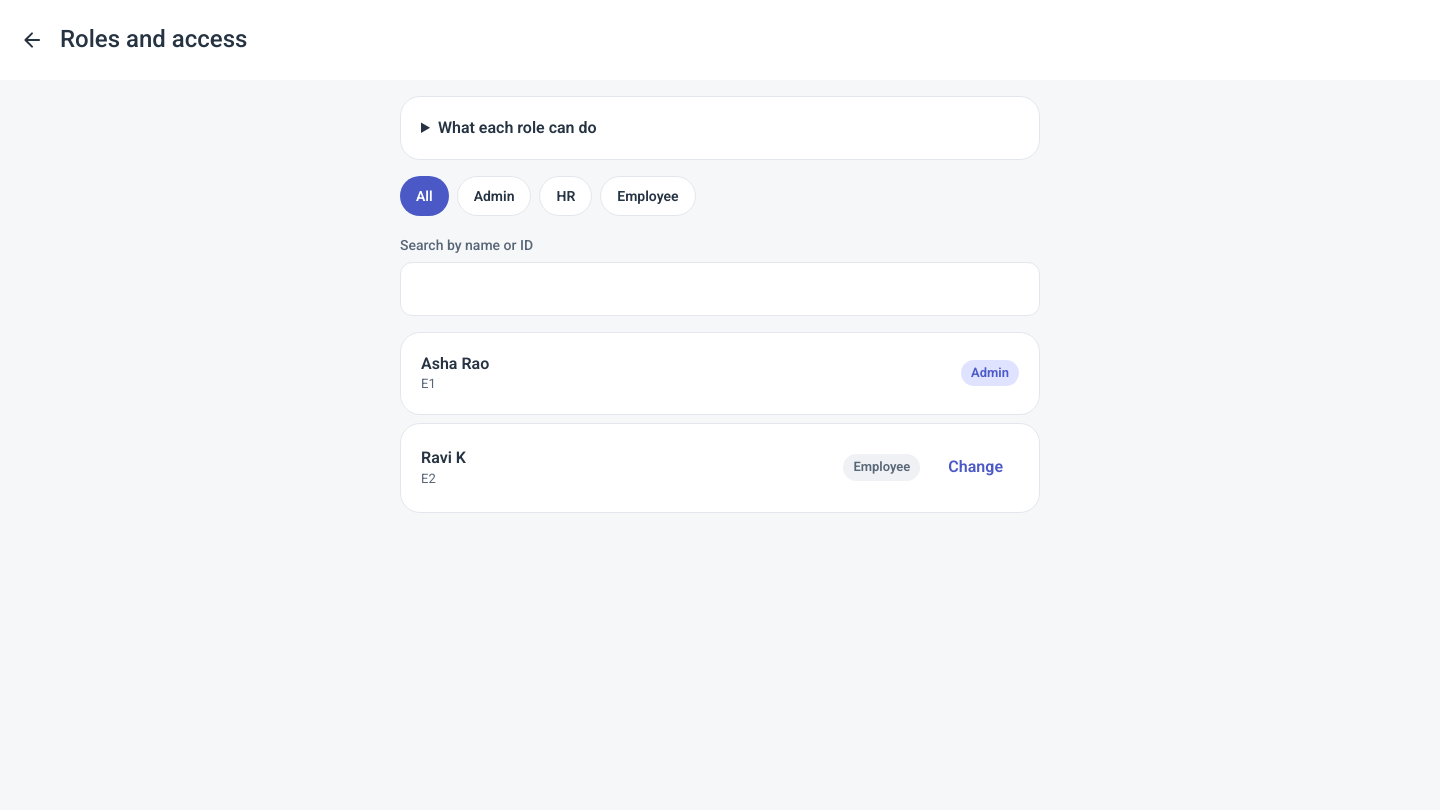
Scenario: Roles and step-up password › elevating to Admin asks for the password once, then retries
Expected: the text "Ravi K" is shown, [421,448,466,467]
Click the button "Change": [976, 468] box [932,444,1019,492]
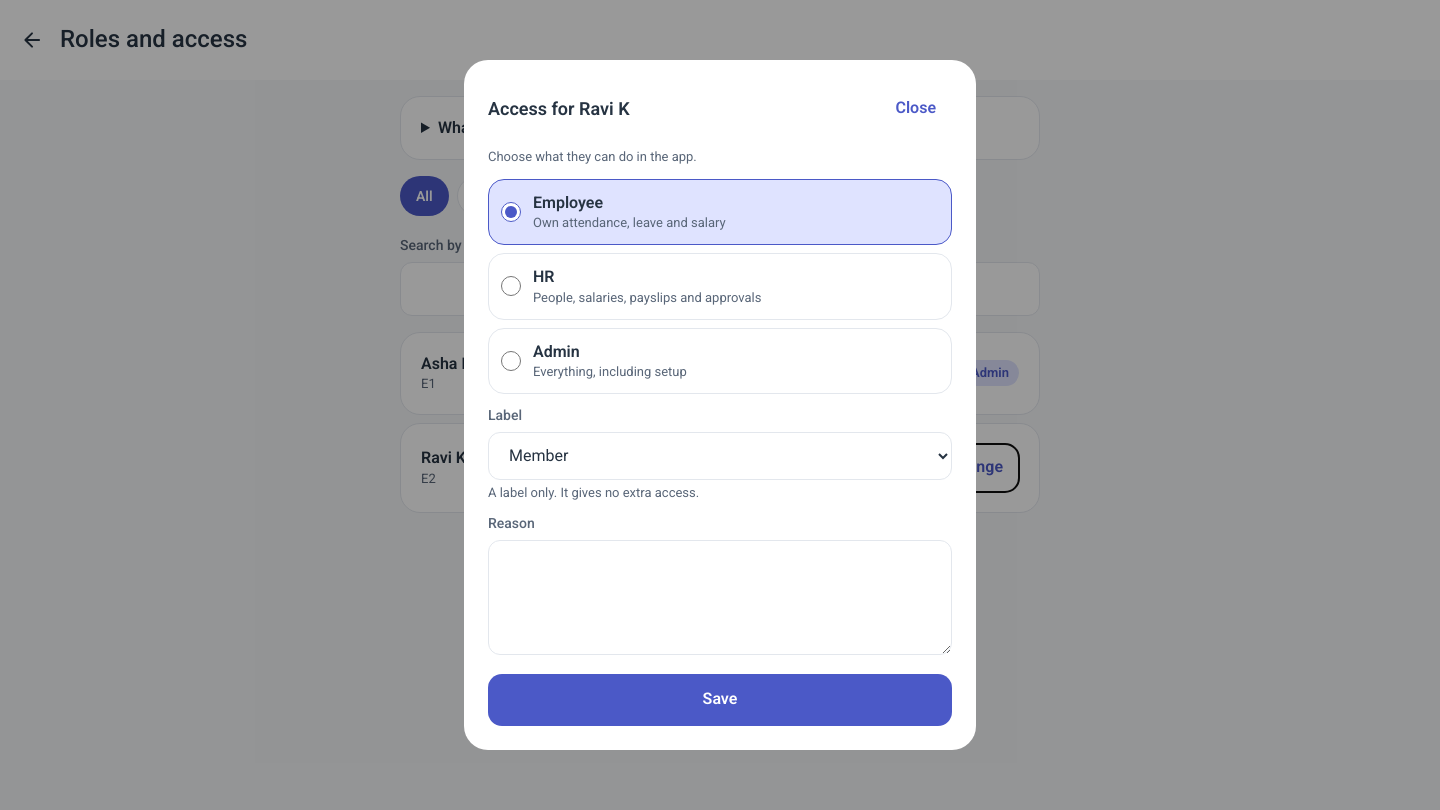
Click the radio button labelled "Admin Everything, including setup": [511, 361] box [501,351,521,371]
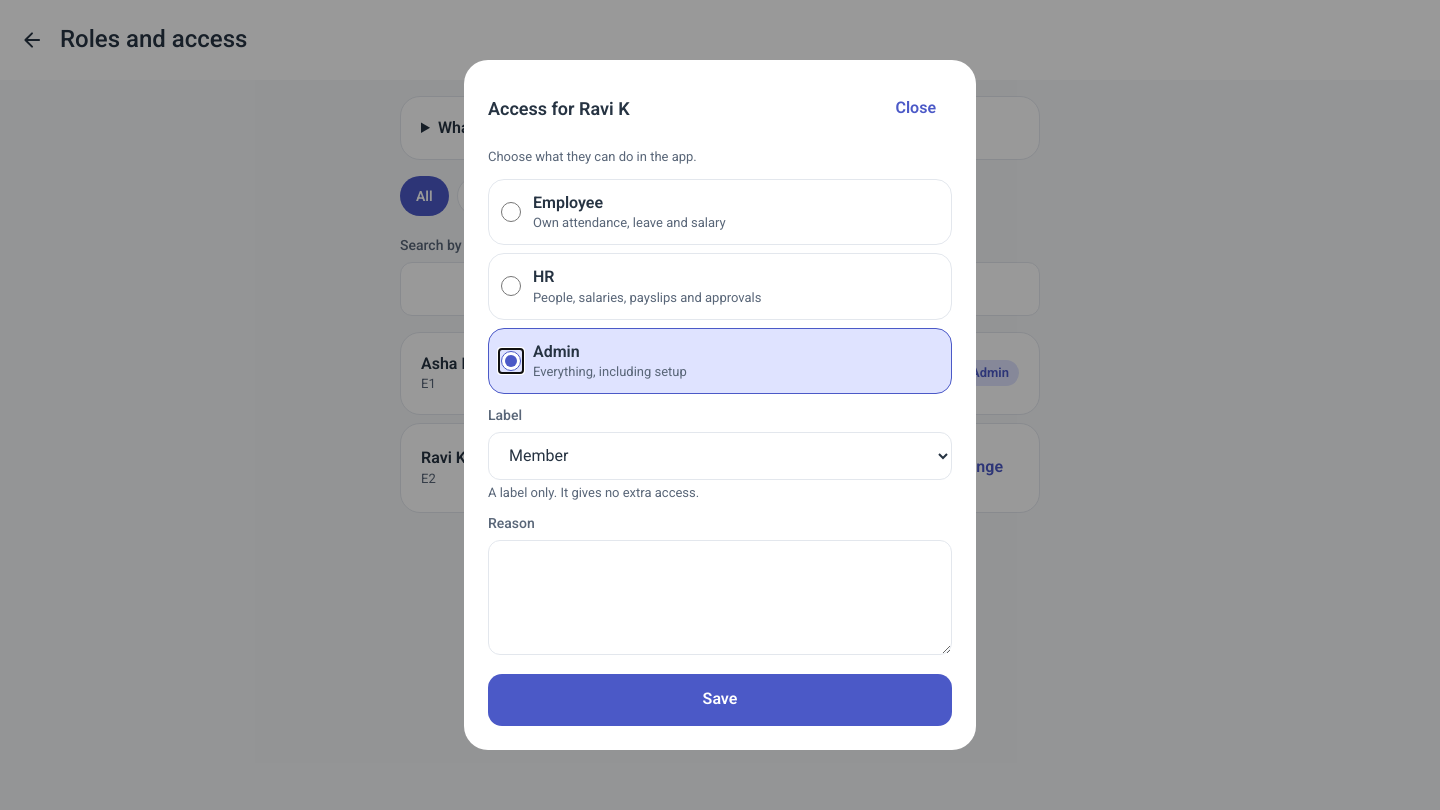
In the text box labelled "Reason": [720, 598] box [488,540,952,655], type "New office lead"
Click the button "Save": [720, 700] box [488,674,952,726]
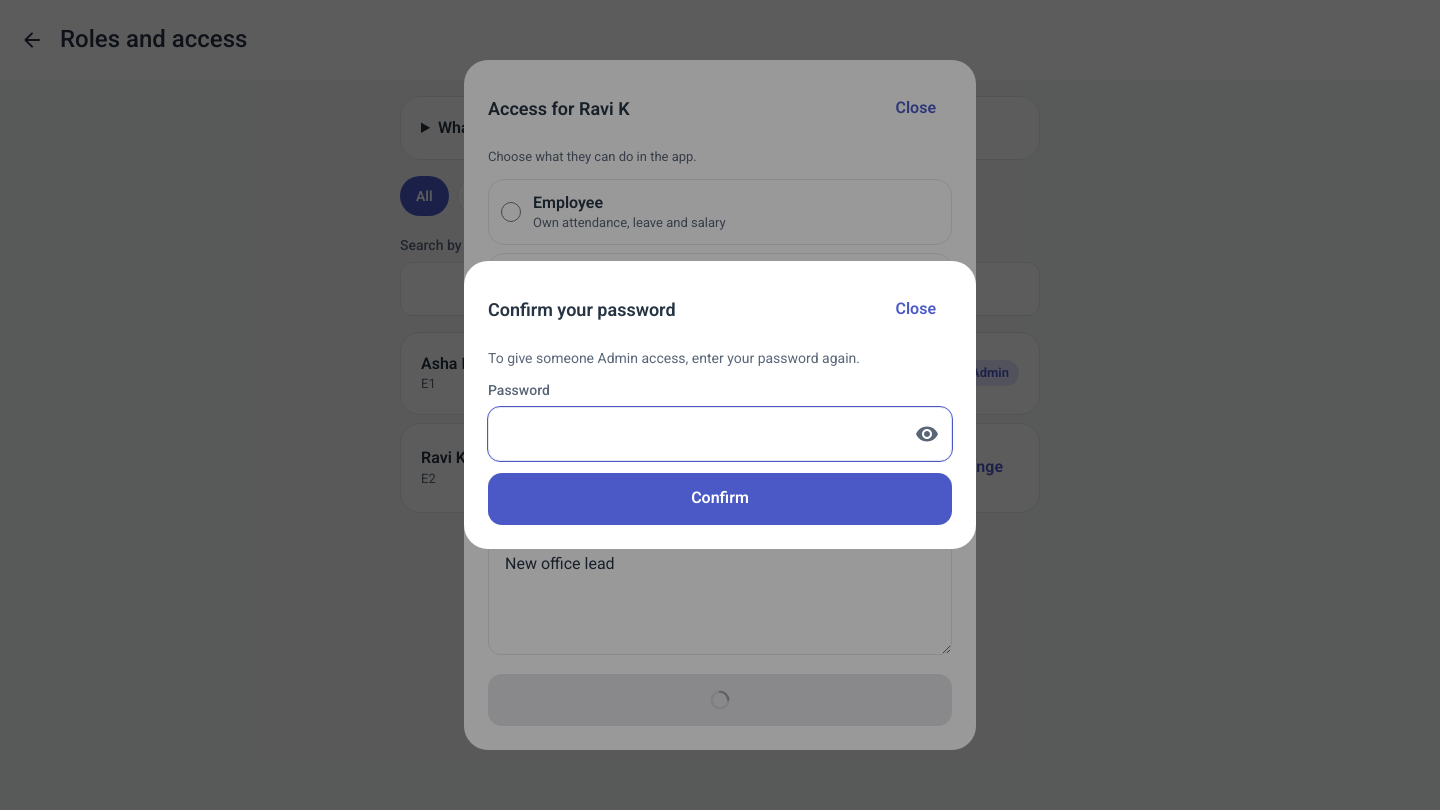
Result: the text "To give someone Admin access, enter your password again." is shown at [488,350,860,366]
In the password field labelled "Password": [696, 434] box [489,408,903,460], type "wrong"
Click the button "Confirm": [720, 499] box [488,473,952,525]
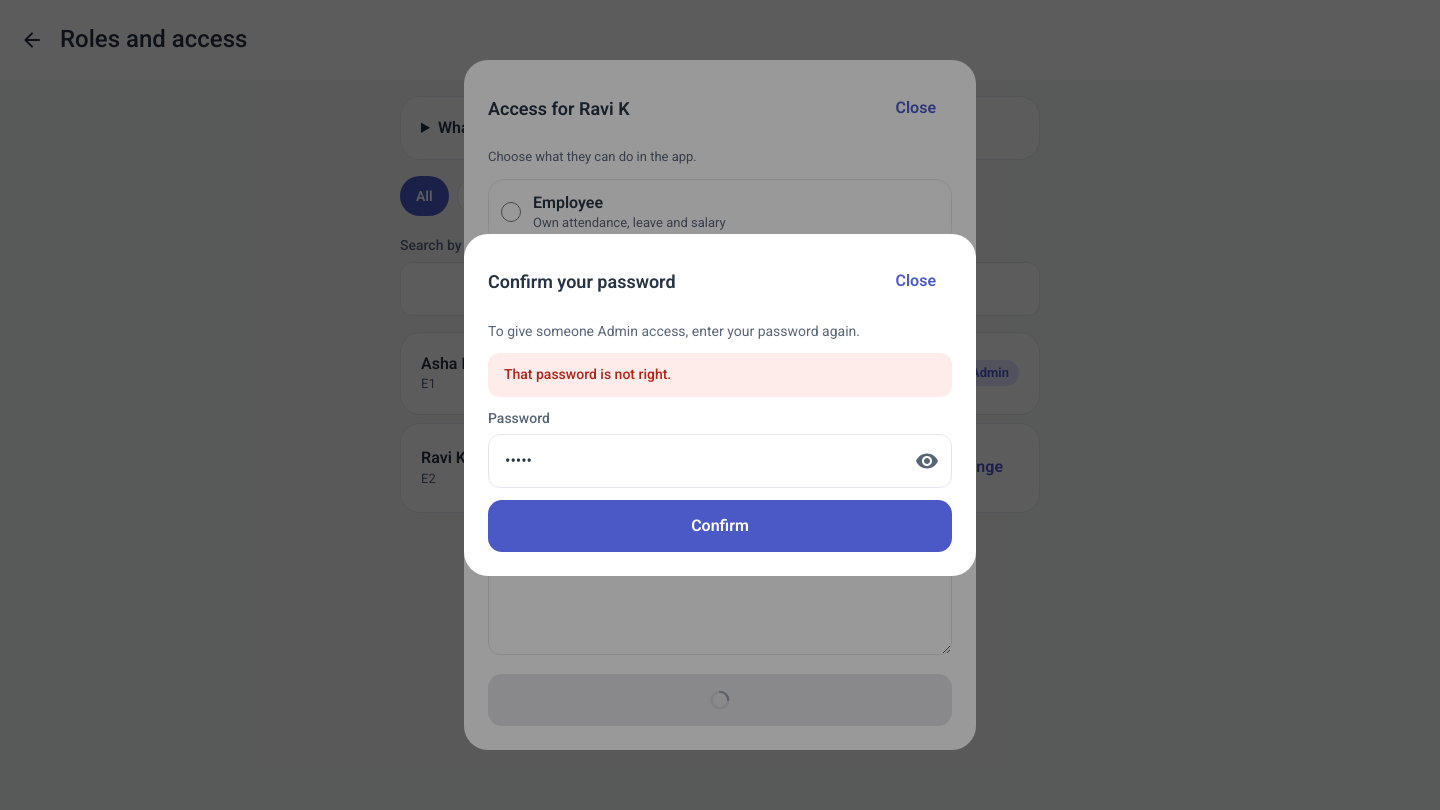
Result: the text "That password is not right." is shown at [488,353,952,397]
In the password field labelled "Password": [696, 461] box [489,435,903,487], type "right-pass"
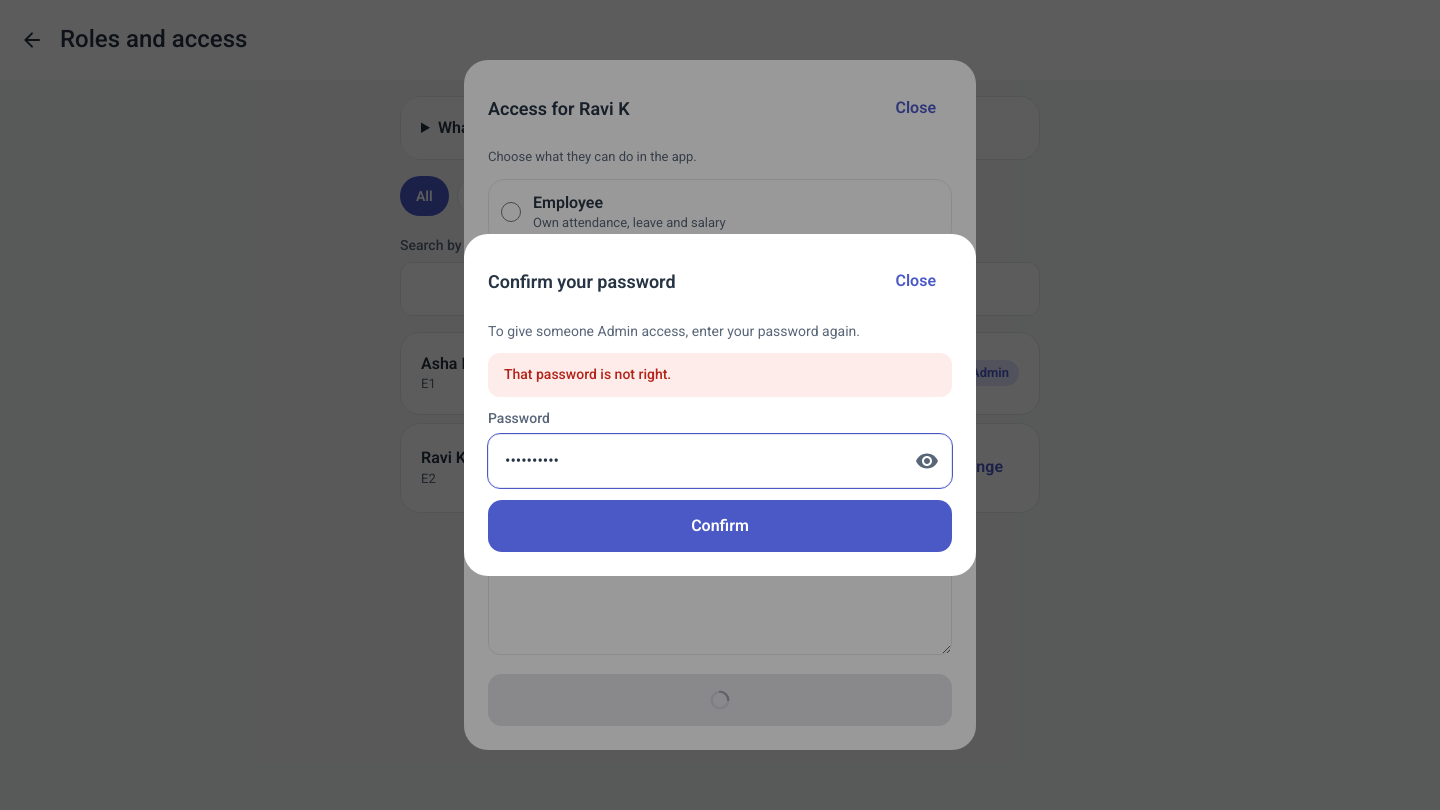
Click the button "Confirm": [720, 526] box [488,500,952,552]
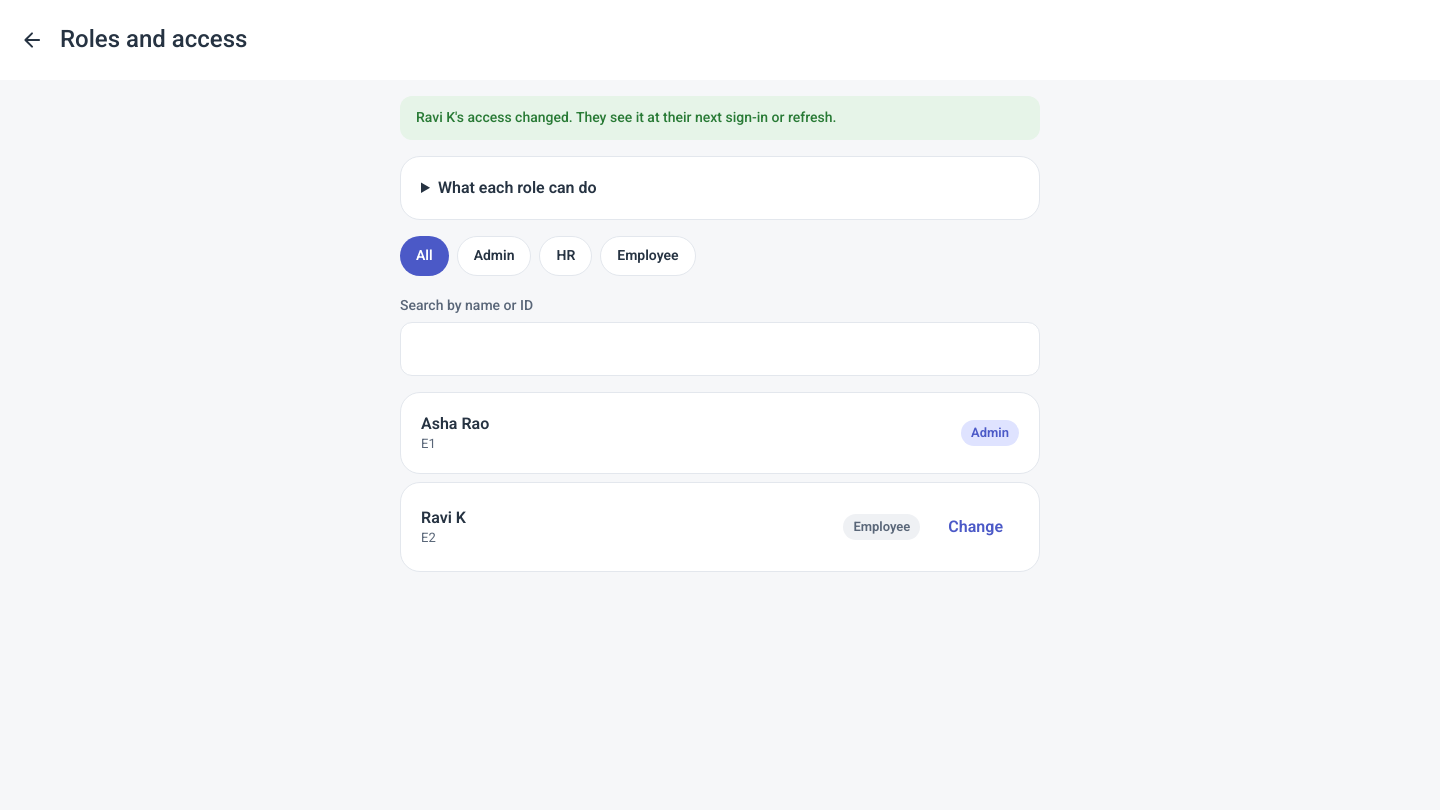
Result: the text "Ravi K's access changed. They see it at their next sign-in or refresh." is shown at [400,96,1040,140]
